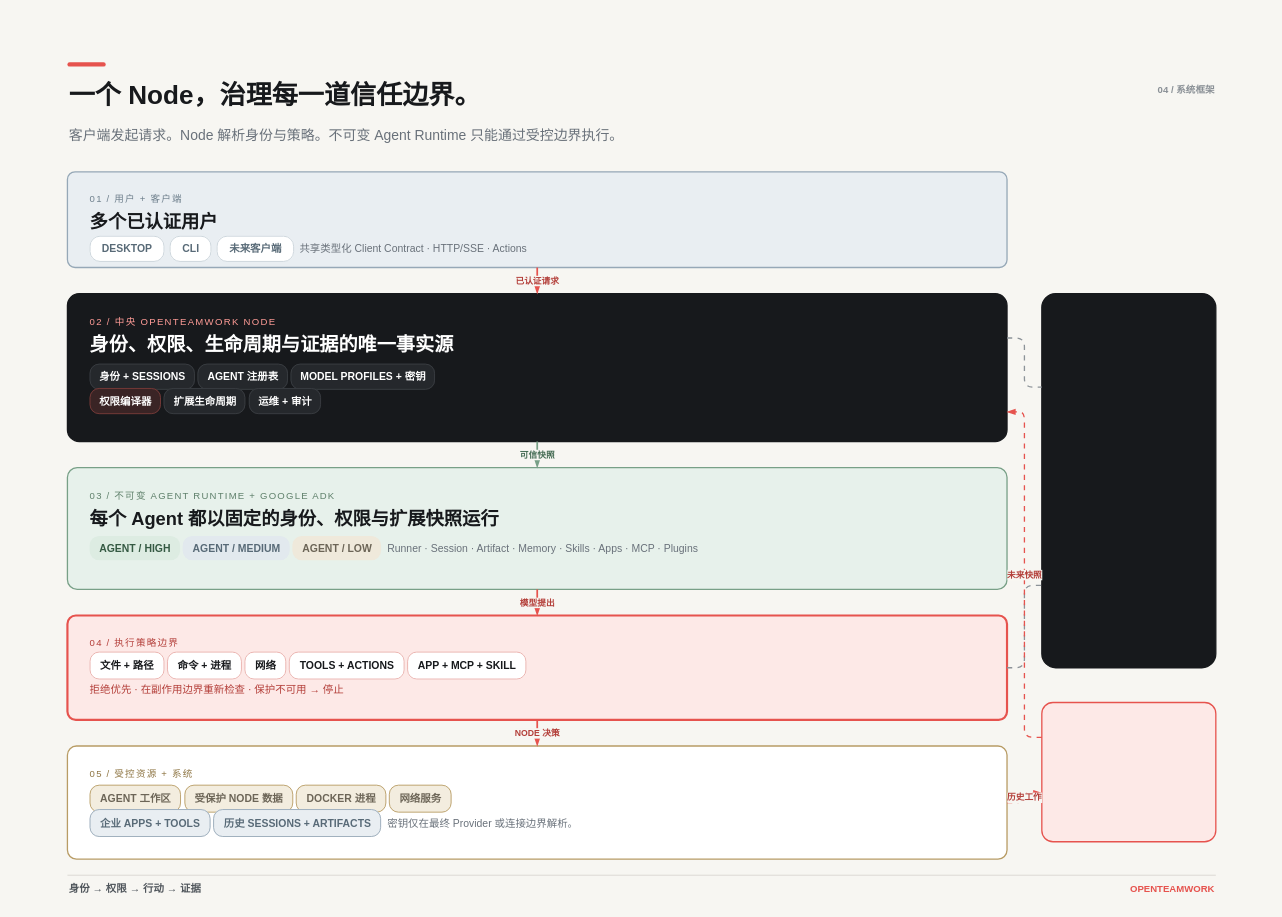
The diagram is 1282 pixels wide and 917 high, and some of its shapes have lost their labels. The shapes that lost their labels are listed below. From the top down, each one's centre as x and y in pixels, then its label:
At (x=1128, y=480): "持久证据 发生了什么，以及为什么 身份 ↓ 策略决策 ↓ 执行结果 ↓ 审计 + 用量 + ARTIFACTS 普通审计投影不包含 Prompt、回复与密钥值。".
At (x=1128, y=771): "受治理反馈循环 成功工作 → 经审核 Skill → 未来 Runtime".
